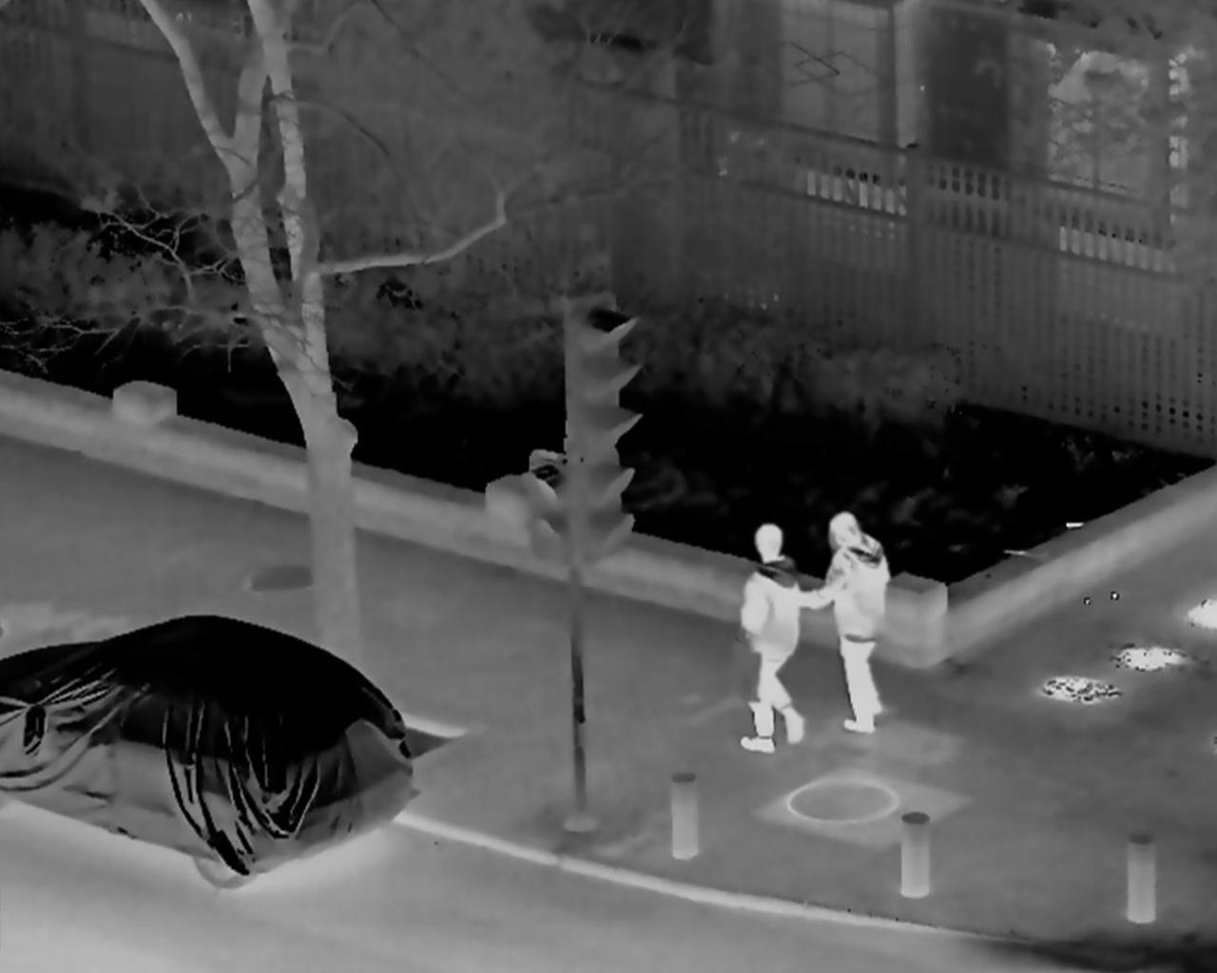person: (803, 515, 895, 736), (743, 518, 805, 757)
